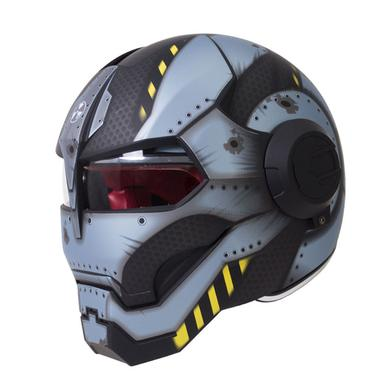with_helmet: (56, 32, 349, 365)
